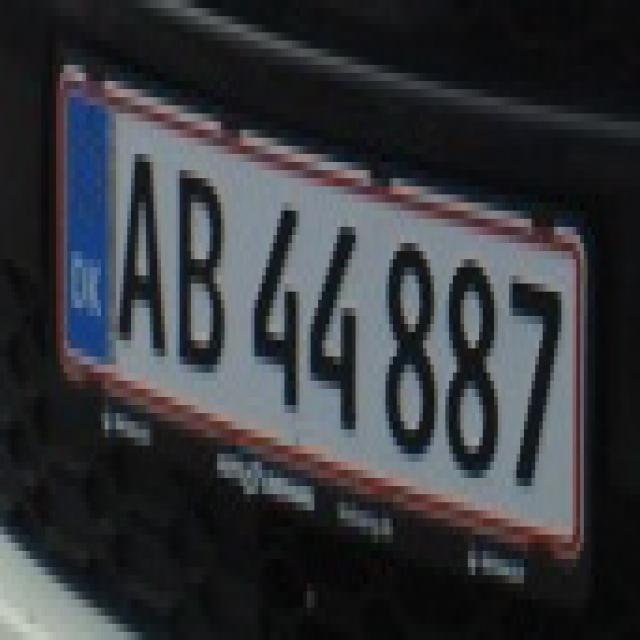4: (308, 186, 366, 443), (248, 174, 304, 418)
7: (506, 249, 572, 498)
8: (445, 222, 503, 496), (381, 218, 442, 468)
A: (111, 115, 173, 373)
B: (172, 150, 234, 384)
